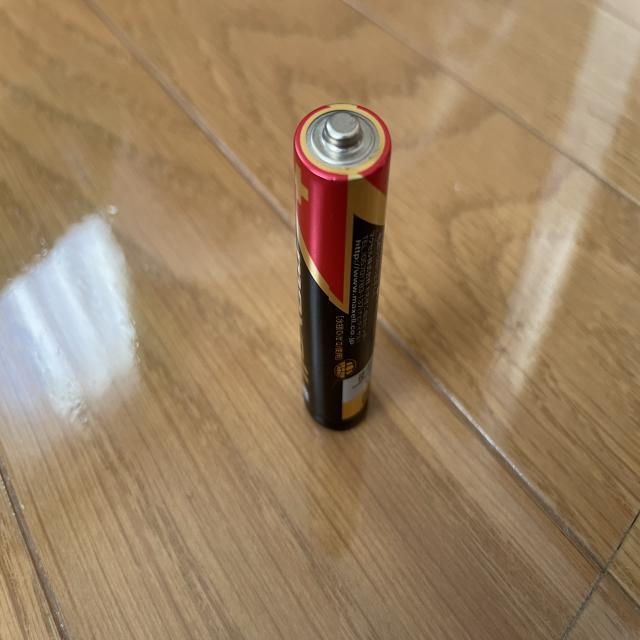hazardous waste: (290, 96, 400, 435)
